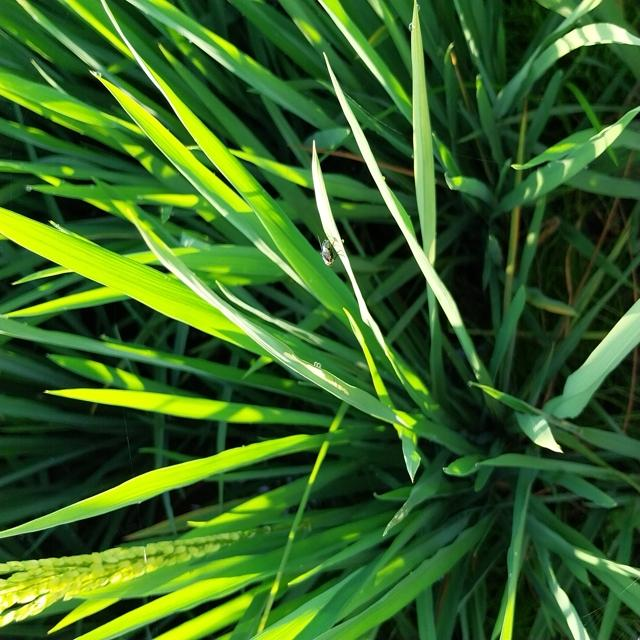Leaf scald: (312, 218, 349, 279)
